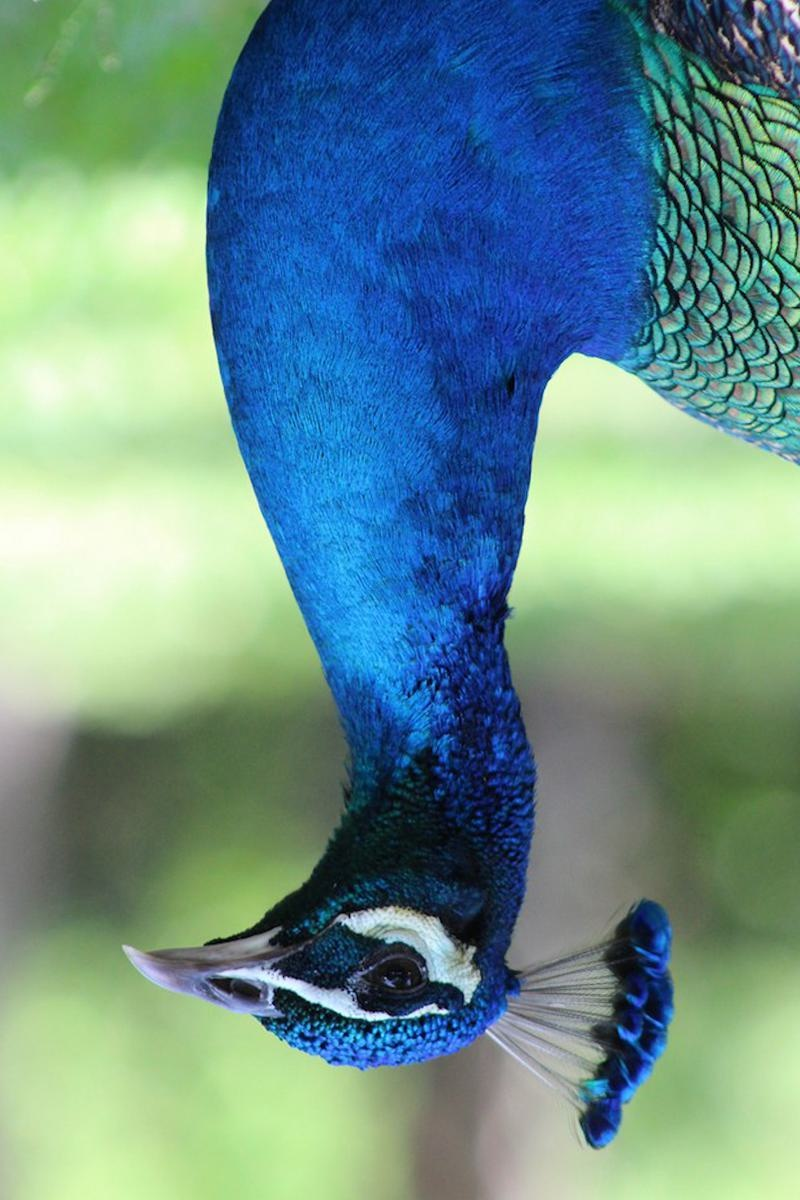peacock: (91, 1, 800, 1109)
